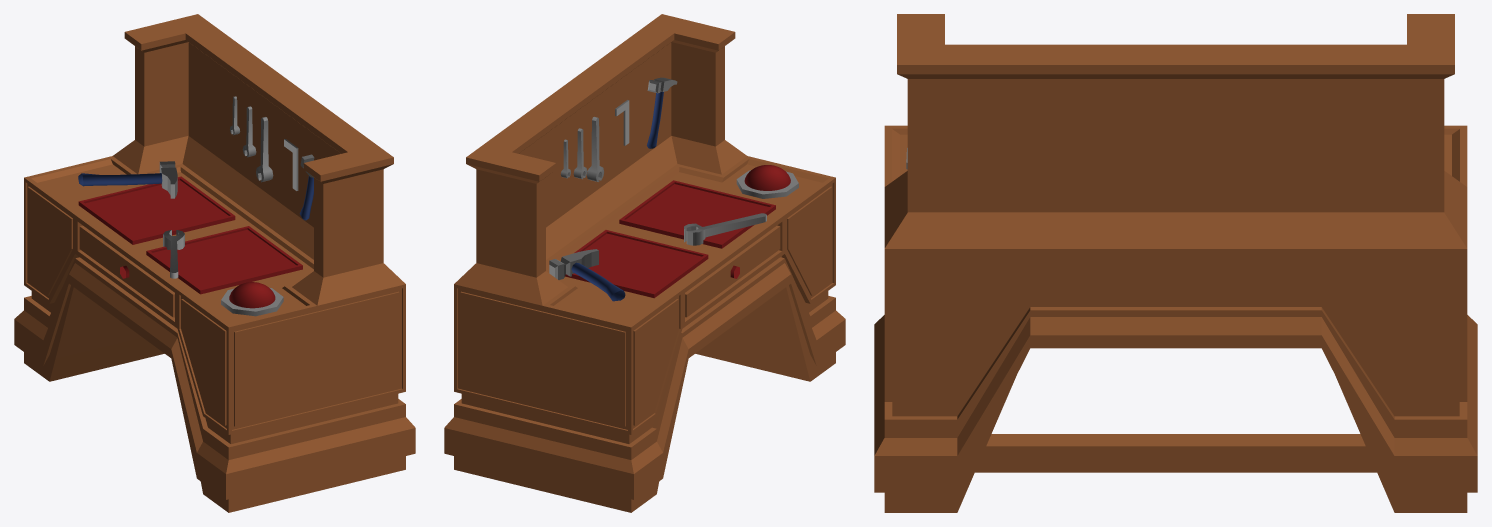
File: workshop.fbx
3 renders of one model, left to right at view 1: azimuth 30°, elevation 25°; view 2: azimuth 150°, elevation 25°; view 3: azimuth 270°, elevation 25°, orthographic. The views are drawn at different scales.
Parts seen in each view (by area): view 1: Box062; view 2: Box062; view 3: Box062.
Boxes of the visible parts, x1=… form: Box062: x1=14, y1=14, x2=415, y2=512; Box062: x1=444, y1=14, x2=845, y2=512; Box062: x1=874, y1=14, x2=1477, y2=512.
Size of the model in its own units: 45.3 by 70.95 by 87.63.
